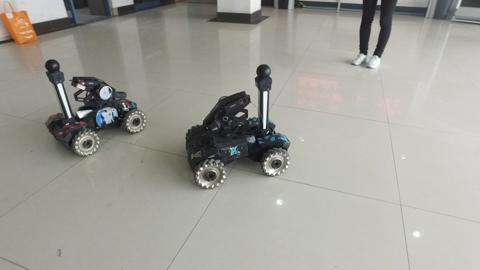chariot: (179, 59, 291, 191), (38, 54, 149, 161)
